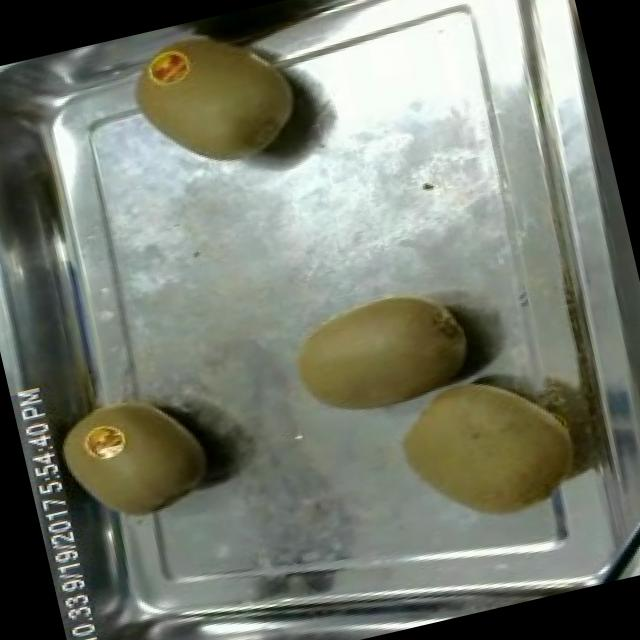Fruit: (378, 350, 596, 546), (110, 7, 316, 190), (273, 270, 488, 440), (41, 377, 227, 538)
